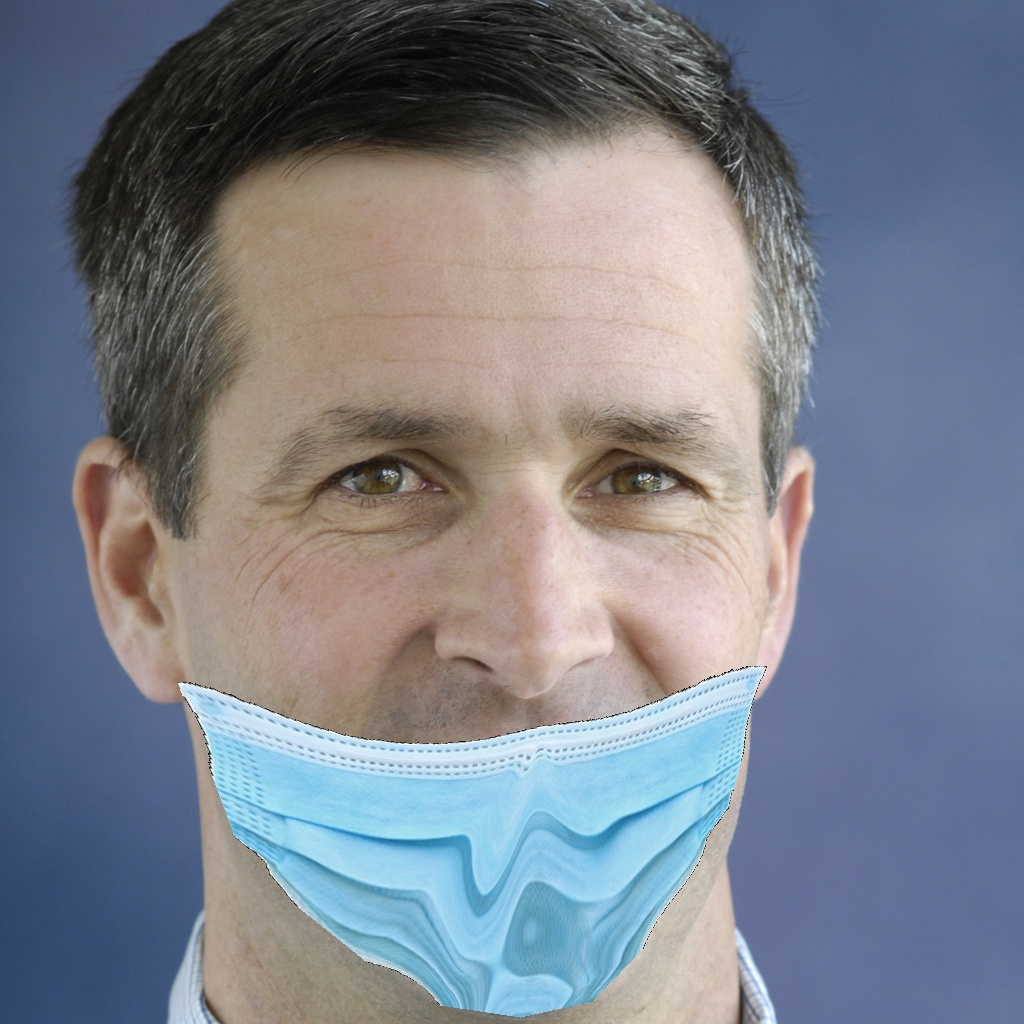mask_weared_incorrect: (143, 403, 801, 1023)
